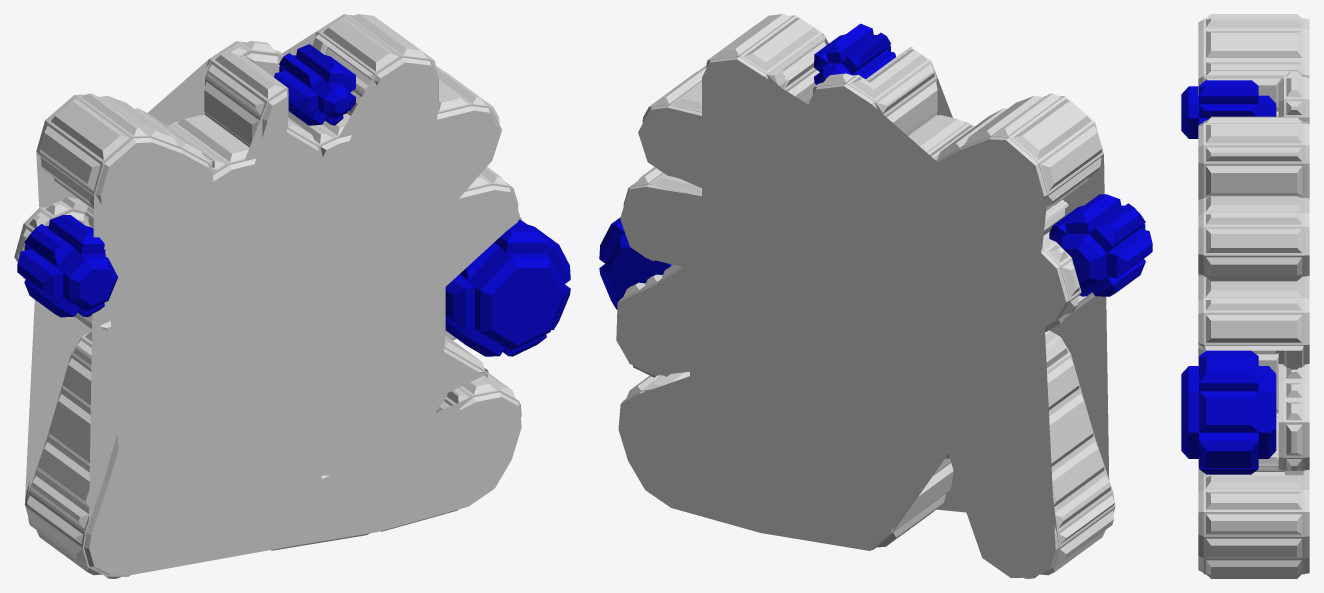
File: Ch_China_港_01.fbx
3 renders of one model, left to right at view 1: azimuth 30°, elevation 25°; view 2: azimuth 150°, elevation 25°; view 3: azimuth 270°, elevation 25°, orthographic. The views are drawn at different scales.
Visible parts, largest first — view 1: sphere1; view 2: sphere1; view 3: sphere1.
Boxes of the visible parts, <box> form: sphere1: <box>14,14,570,578</box>; sphere1: <box>599,14,1152,578</box>; sphere1: <box>1181,14,1309,578</box>.
Bounding box in the file's own units: 1.09 × 0.9513 × 0.2541.
